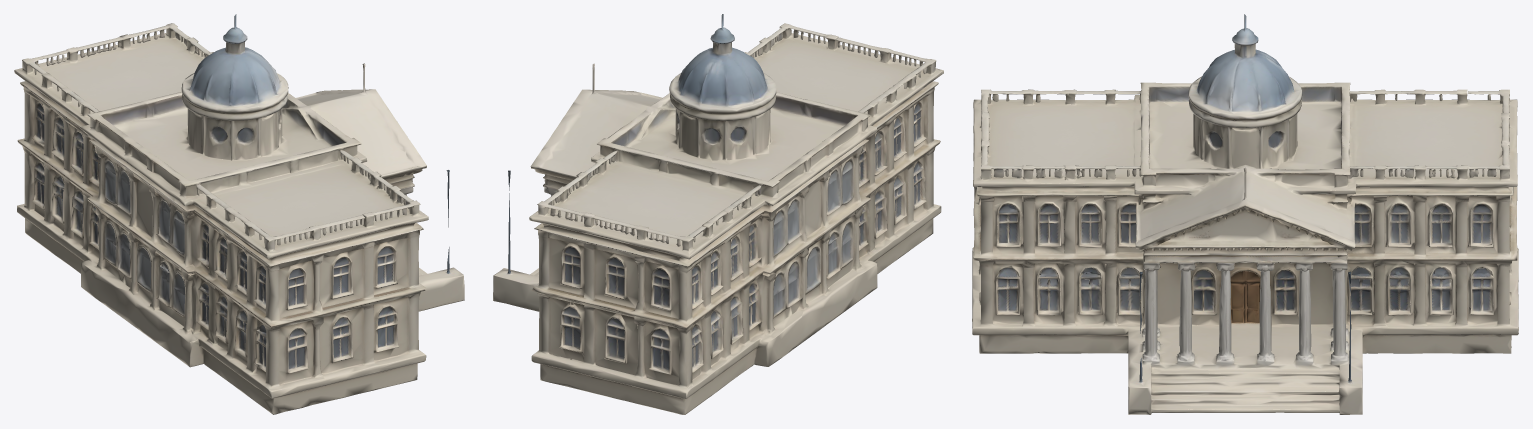
File: predio_prefeitura.glb
The picture shows the model from 3 angles, left to right: view 1: azimuth 30°, elevation 25°; view 2: azimuth 150°, elevation 25°; view 3: azimuth 270°, elevation 25°; orthographic projection. The views are drawn at different scales.
Visible parts, largest first — view 1: tripo_node_3887e0b6-0c46-43b3-b6d5-8dacae7fb7a4; view 2: tripo_node_3887e0b6-0c46-43b3-b6d5-8dacae7fb7a4; view 3: tripo_node_3887e0b6-0c46-43b3-b6d5-8dacae7fb7a4.
Part boxes in pixels (bbox=[...]): tripo_node_3887e0b6-0c46-43b3-b6d5-8dacae7fb7a4: bbox=[14, 14, 464, 414]; tripo_node_3887e0b6-0c46-43b3-b6d5-8dacae7fb7a4: bbox=[493, 14, 943, 414]; tripo_node_3887e0b6-0c46-43b3-b6d5-8dacae7fb7a4: bbox=[972, 14, 1518, 414].
Size of the model in its own units: 0.6269 by 0.624 by 0.9983.
1 material, 1 textured.
